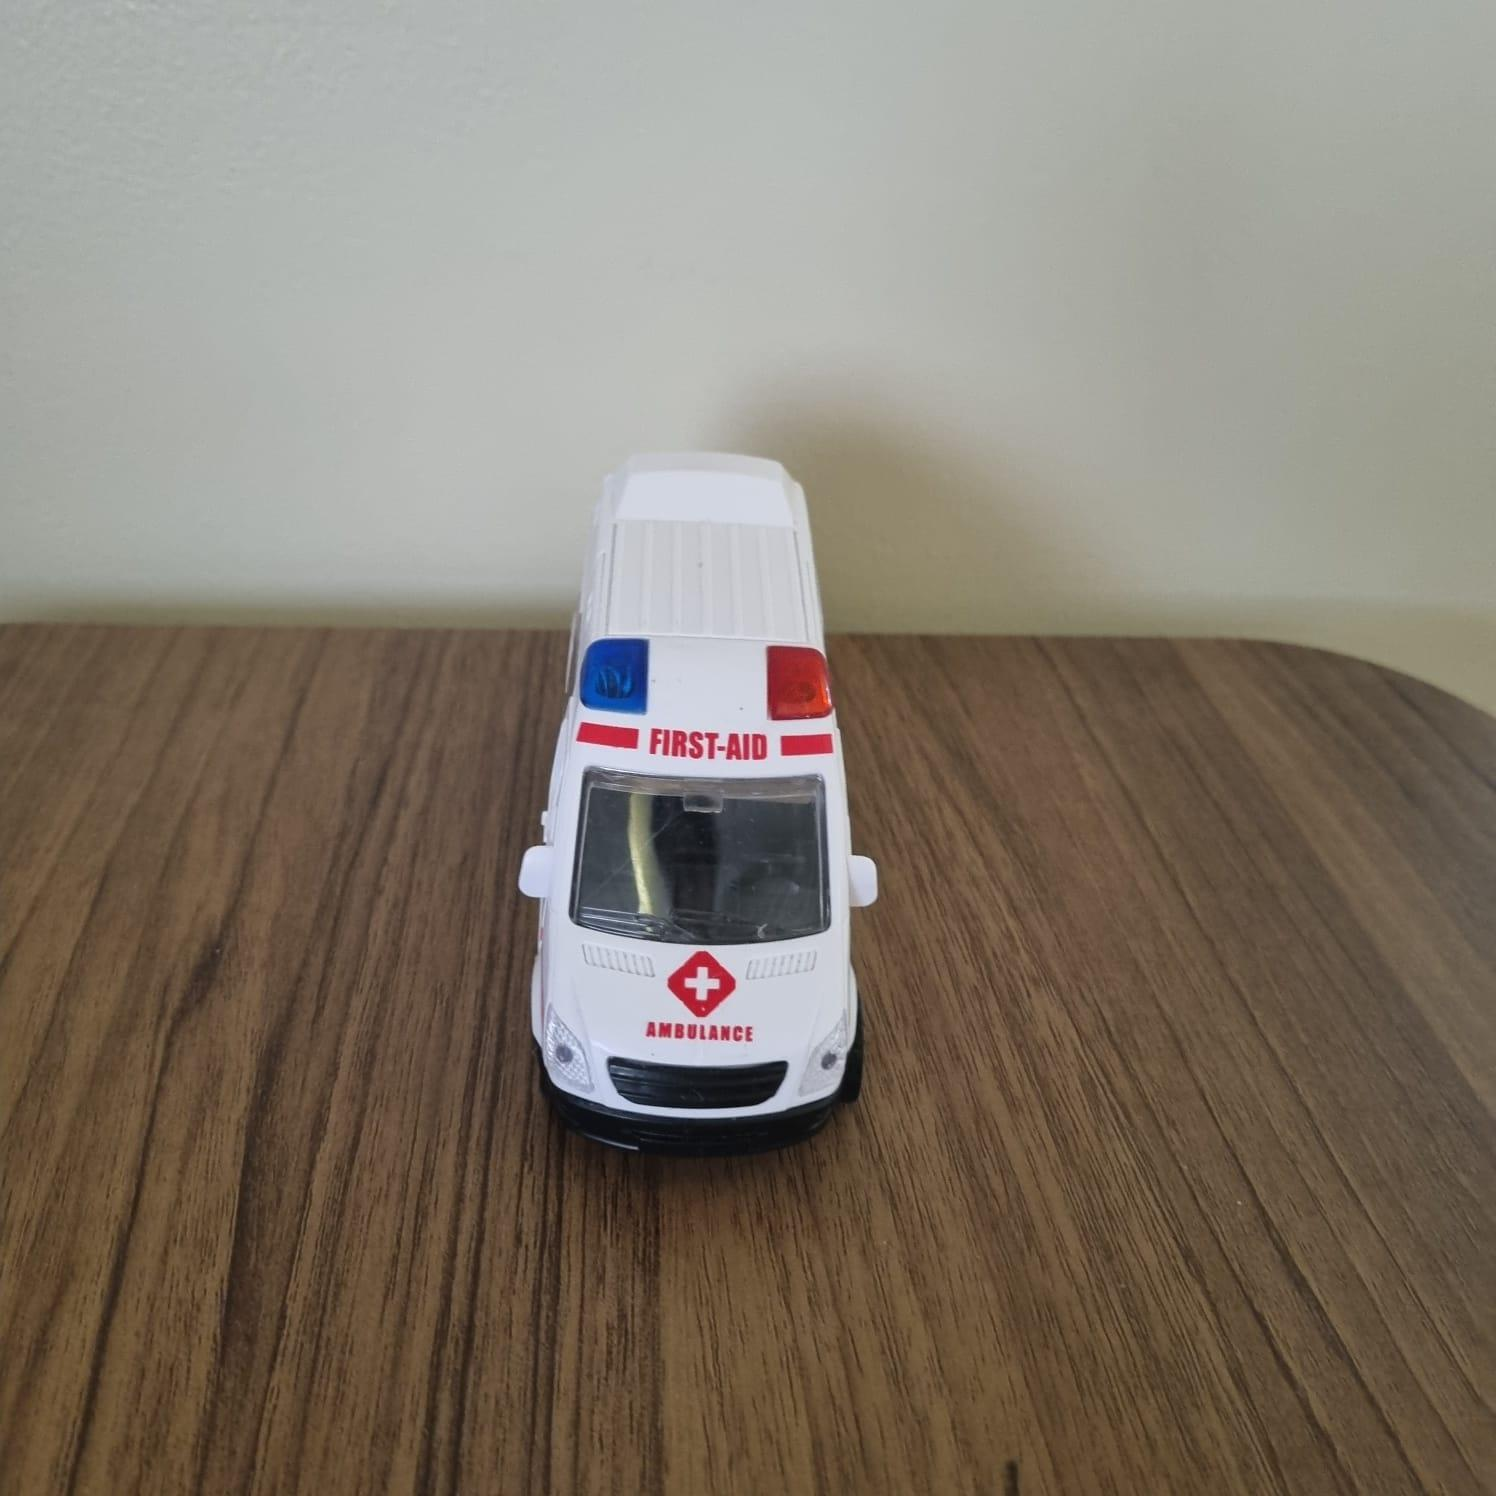ambulance_off: (515, 448, 884, 1149)
